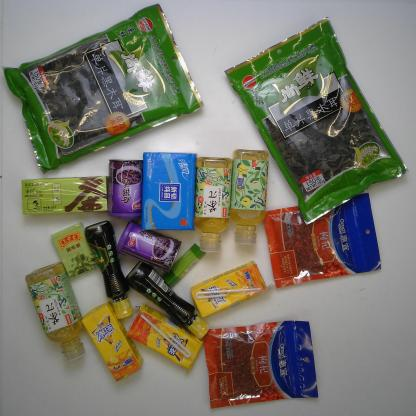Candy: (48, 221, 100, 278)
Canned Food: (114, 213, 187, 272), (101, 151, 148, 222)
Dried Food: (221, 16, 414, 225), (0, 1, 207, 175)
Dried Fruit: (258, 186, 393, 290), (200, 314, 322, 411)
Drink: (22, 257, 91, 367), (127, 302, 208, 373), (77, 299, 145, 383), (227, 142, 275, 248), (191, 261, 271, 319), (191, 153, 236, 255)
Instant Drink: (15, 166, 112, 220)
Seasoner: (121, 261, 218, 341), (83, 209, 137, 322)
Stationery: (162, 242, 207, 290)
Tissue: (140, 146, 204, 236)
